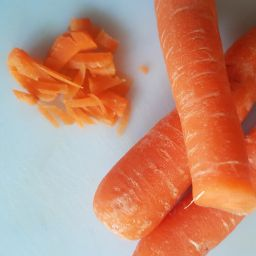Sliced carrots: (7, 8, 256, 256), (149, 2, 256, 223), (2, 17, 151, 142)
